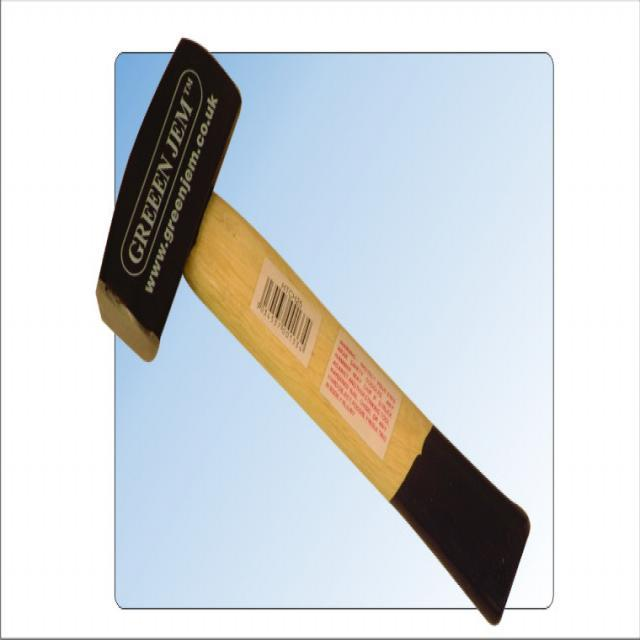hammer: (94, 31, 548, 616)
